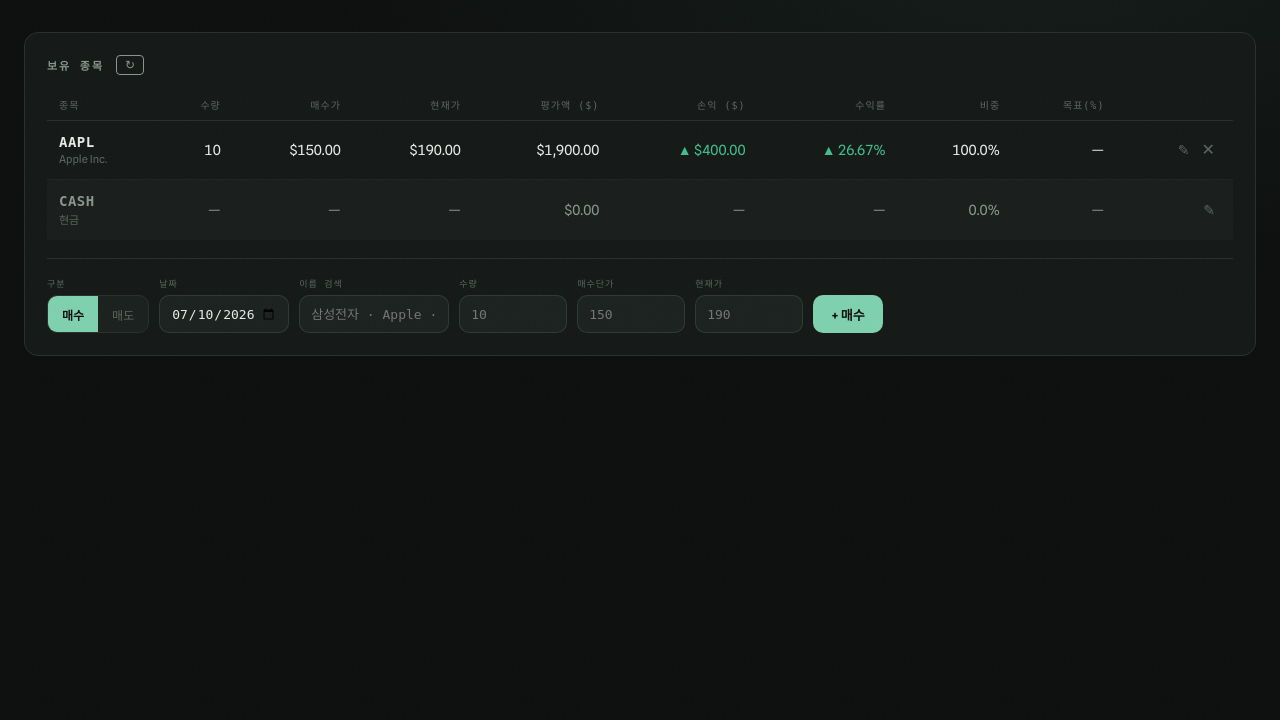
Test: HoldingsTable › EditModal 취소 시 모달 사라짐
The width and height of the screenshot is (1280, 720).
Click the button titled "수정" in the row of "AAPL" at point(1184, 150), box 1172,140 -> 1196,160
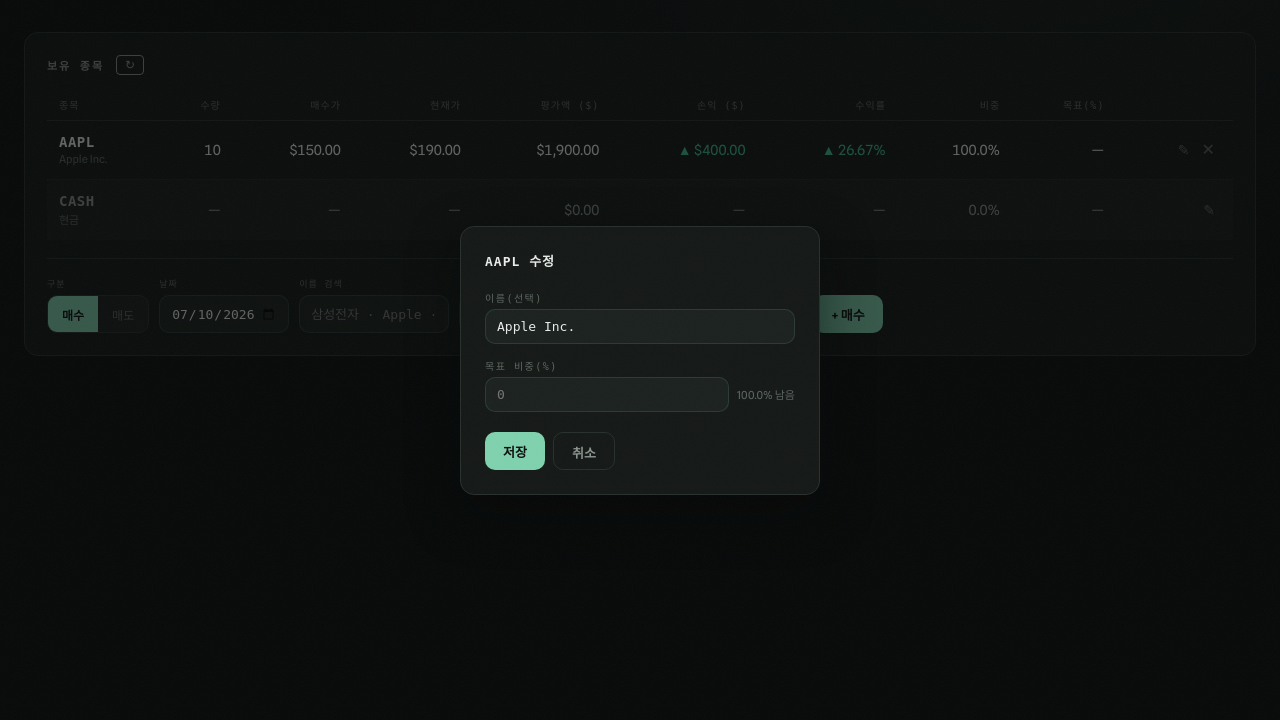
expect the heading "AAPL 수정" is shown: met, box 485,254 -> 555,268
Click the button "취소" at point(584, 450), box 553,432 -> 615,470
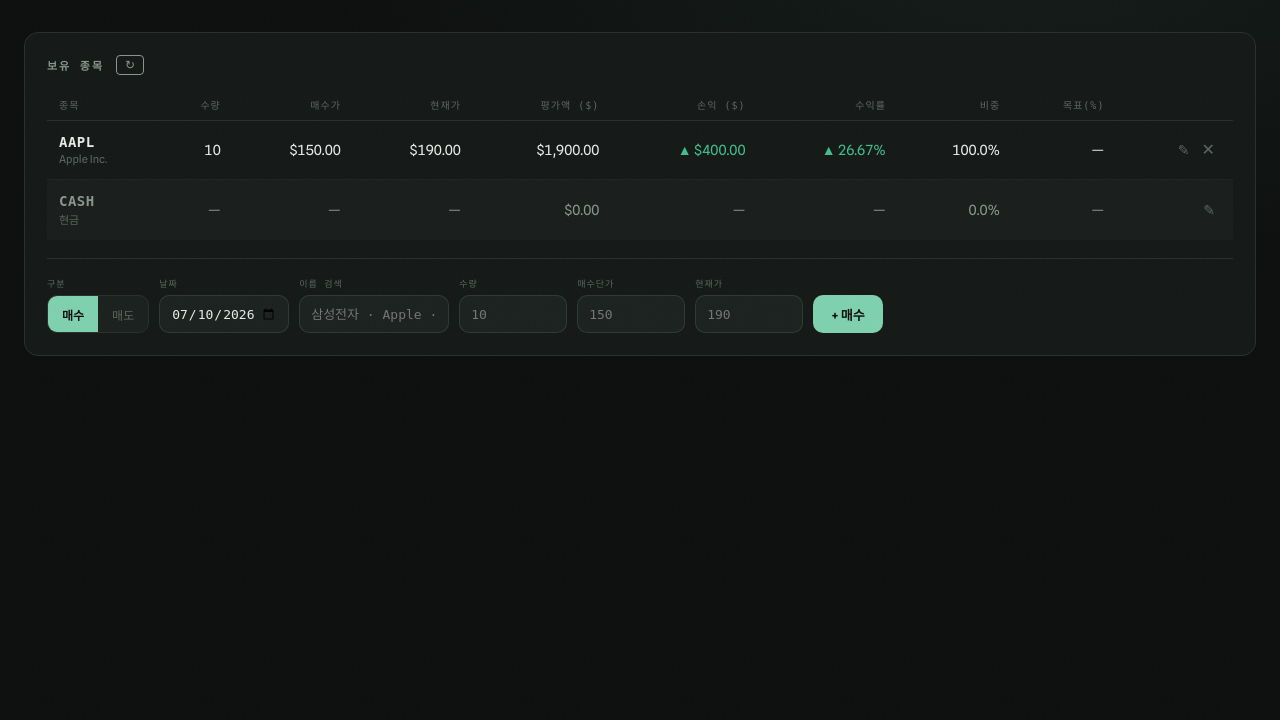
expect the heading "AAPL 수정" is gone: met
